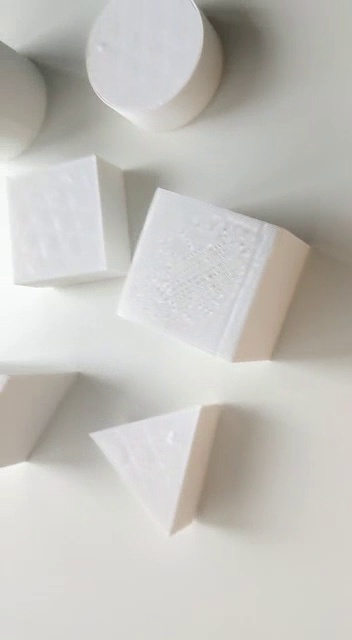Clyinder_short: (80, 1, 231, 135)
Cube: (112, 185, 311, 363)
Cube_short: (1, 148, 144, 285)
Cylinder: (1, 39, 51, 167)
Triangle: (1, 355, 88, 473)
Triangle_short: (87, 396, 225, 538)
